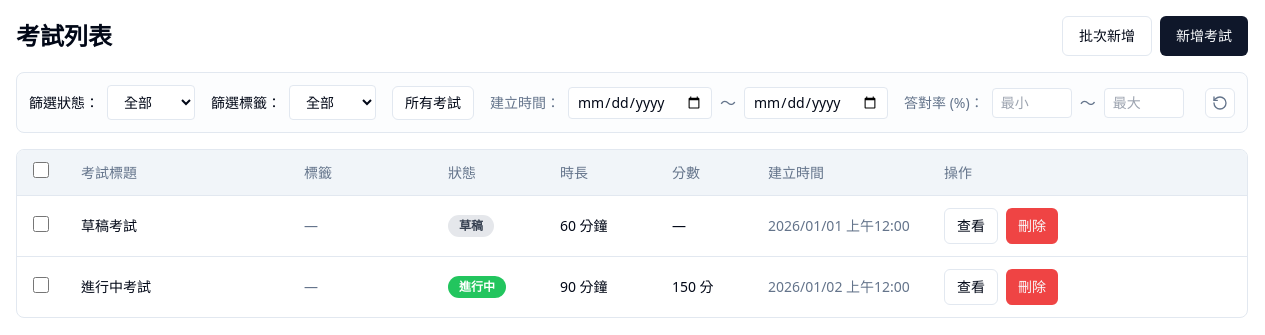
Test: ExamListPage › selecting Draft filter shows only Draft rows
Expected: the text "草稿考試" is shown, 65,196 -> 288,256
Expected: the text "進行中考試" is shown, 65,256 -> 288,317
Step 1. Select "草稿" in the dropdown labelled "篩選狀態：" → (151, 102), box 107,85 -> 195,120
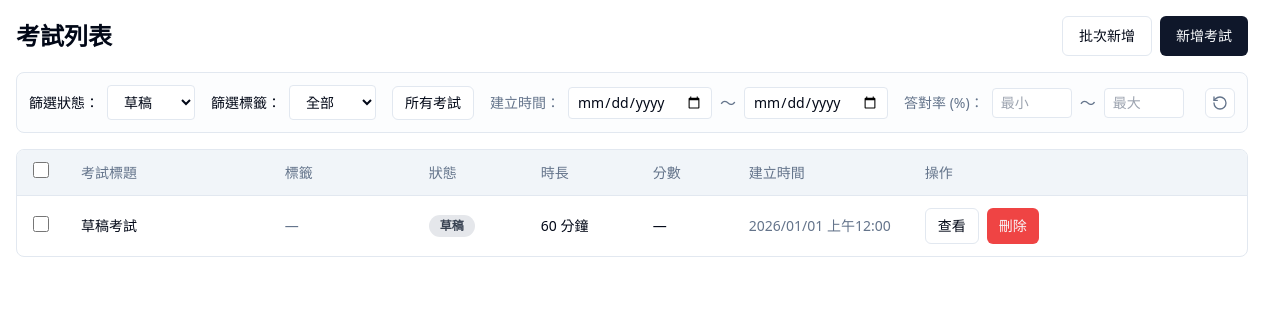
Expected: the text "草稿考試" is shown, 65,196 -> 269,256
Expected: the text "進行中考試" is gone
